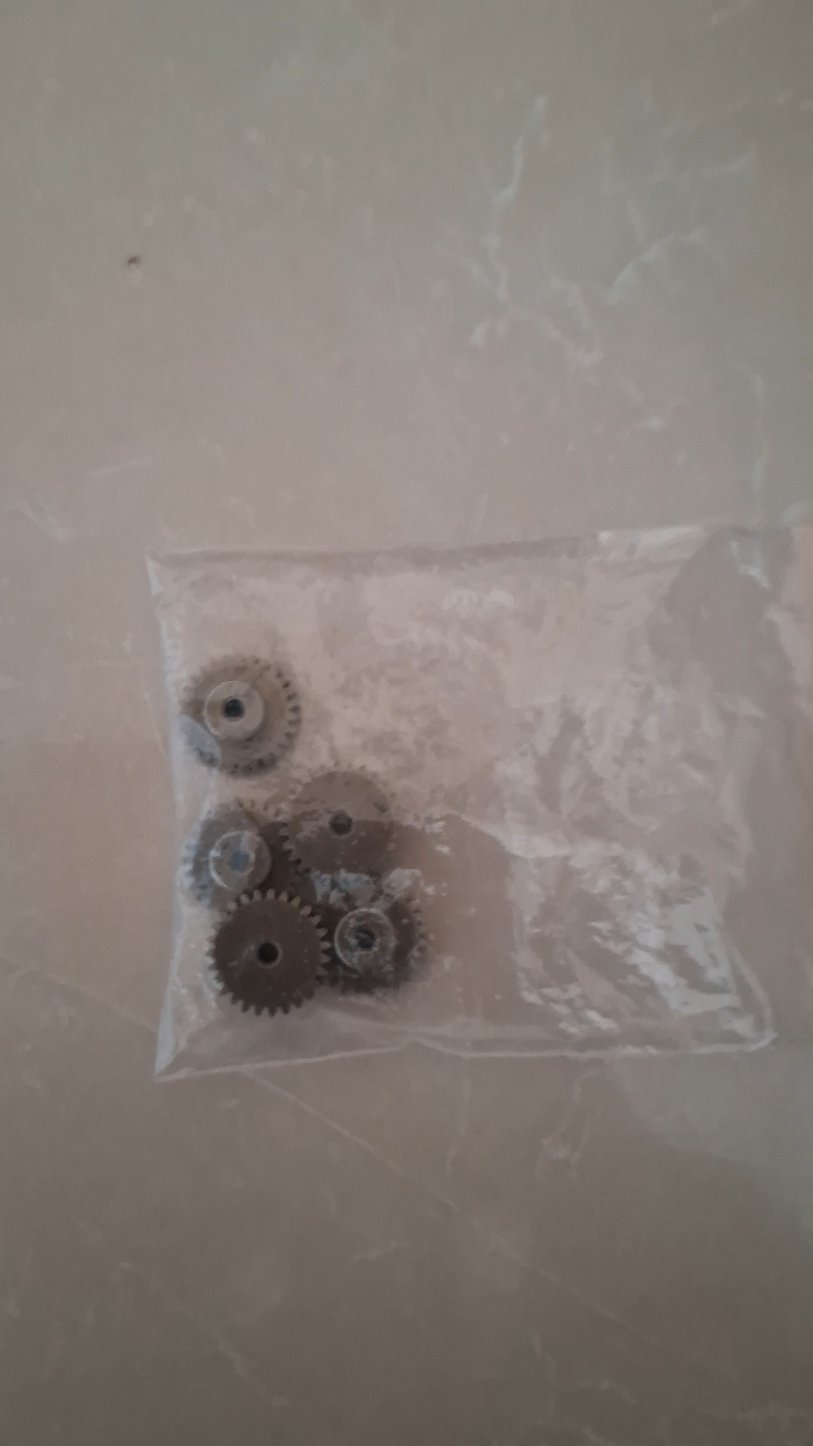spur gear: (180, 656, 300, 775), (210, 894, 328, 1014), (286, 771, 393, 875), (182, 801, 284, 907), (329, 895, 426, 991)
